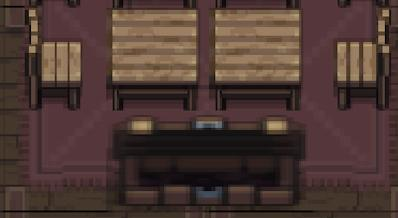Hide: (102, 109, 316, 218)
Obstacle: (98, 7, 205, 108), (203, 7, 308, 108), (324, 0, 398, 113), (17, 4, 90, 113)
